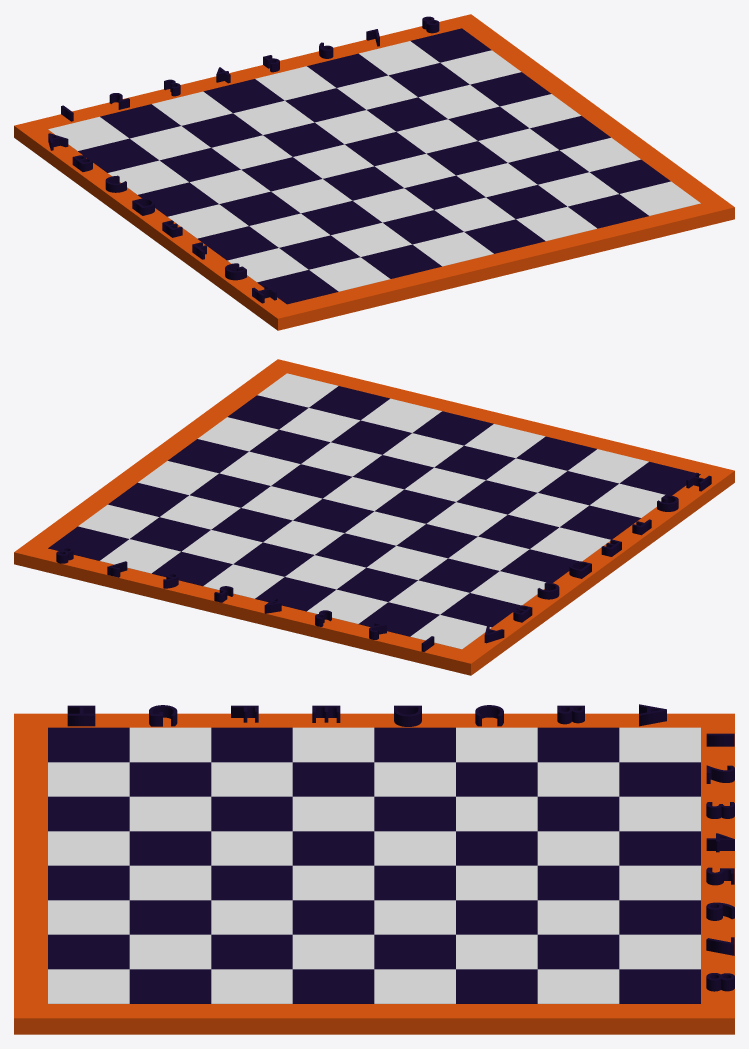
The model's file is chess_board.dae.
3 renders of one model, top to bottom at view 1: azimuth 30°, elevation 25°; view 2: azimuth 150°, elevation 25°; view 3: azimuth 270°, elevation 25°, orthographic. The views are drawn at different scales.
Visible parts, largest first — view 1: chess_board; view 2: chess_board; view 3: chess_board.
Boxes of the visible parts, bbox=[...] form: chess_board: bbox=[14, 14, 734, 330]; chess_board: bbox=[14, 359, 734, 675]; chess_board: bbox=[14, 704, 734, 1034].
Bounding box in the file's own units: 17.66 × 17.67 × 0.754.
